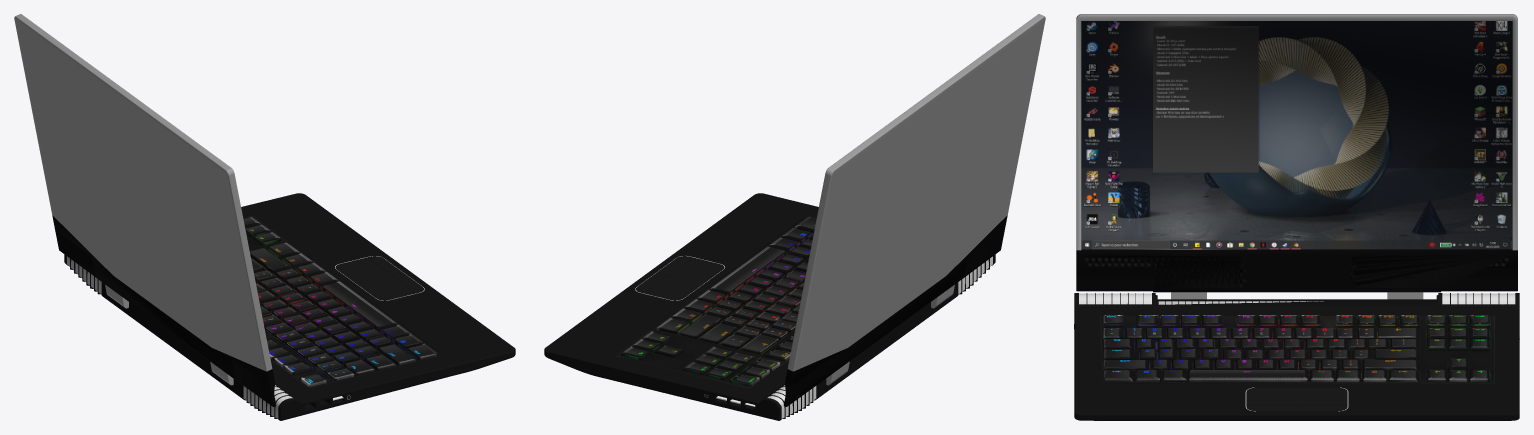
The model's file is Laptop.fbx.
The picture shows the model from 3 angles, left to right: view 1: azimuth 30°, elevation 25°; view 2: azimuth 150°, elevation 25°; view 3: azimuth 270°, elevation 25°; orthographic projection. The views are drawn at different scales.
Parts seen in each view (by area): view 1: Laptop; view 2: Laptop; view 3: Laptop.
Part boxes in pixels (<box>): Laptop: <box>14,14,515,420</box>; Laptop: <box>544,14,1045,420</box>; Laptop: <box>1074,14,1519,420</box>.
Bounding box in the file's own units: 309 × 274 × 400.
